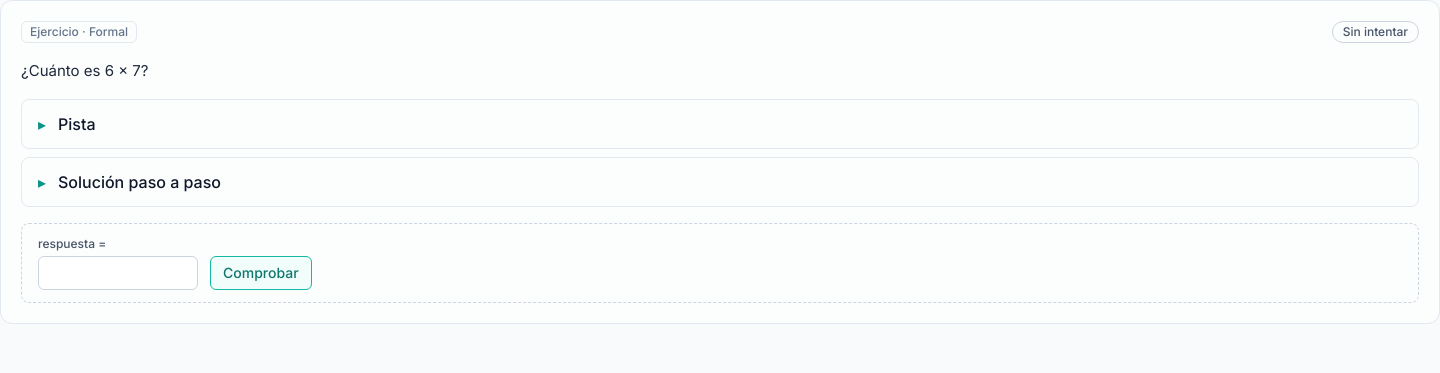
NumericExercise (comprobador numérico, integración) › respuesta correcta → estado verde (correct) con feedback
Type "42" into the number field labelled "respuesta =" at (118, 273), box [38,256,198,290]
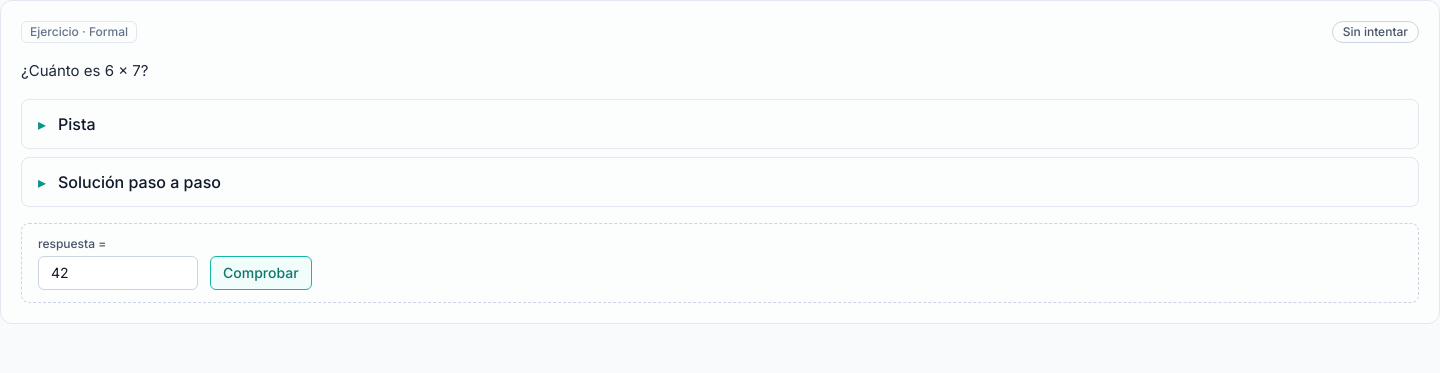
Click the button "Comprobar" at (261, 273), box [210,256,312,290]
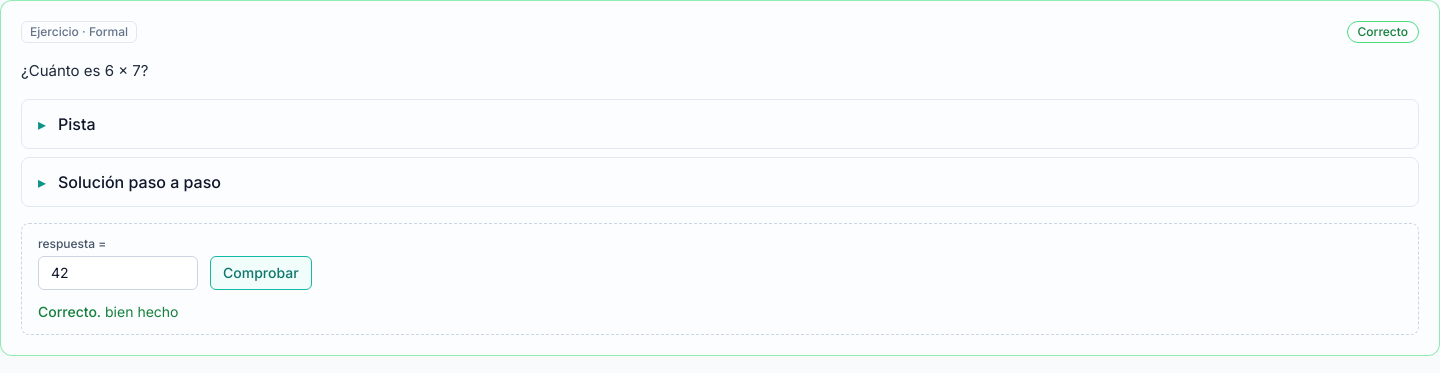
Expected: the message with test id "checker-feedback" shows "Correcto", [38,303,101,320]
